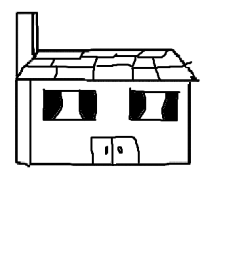chimney: (11, 7, 42, 77)
door: (89, 132, 144, 169)
open_window: (40, 86, 103, 127), (123, 86, 180, 125)
roof: (13, 43, 203, 84)
wall: (26, 74, 190, 168)
